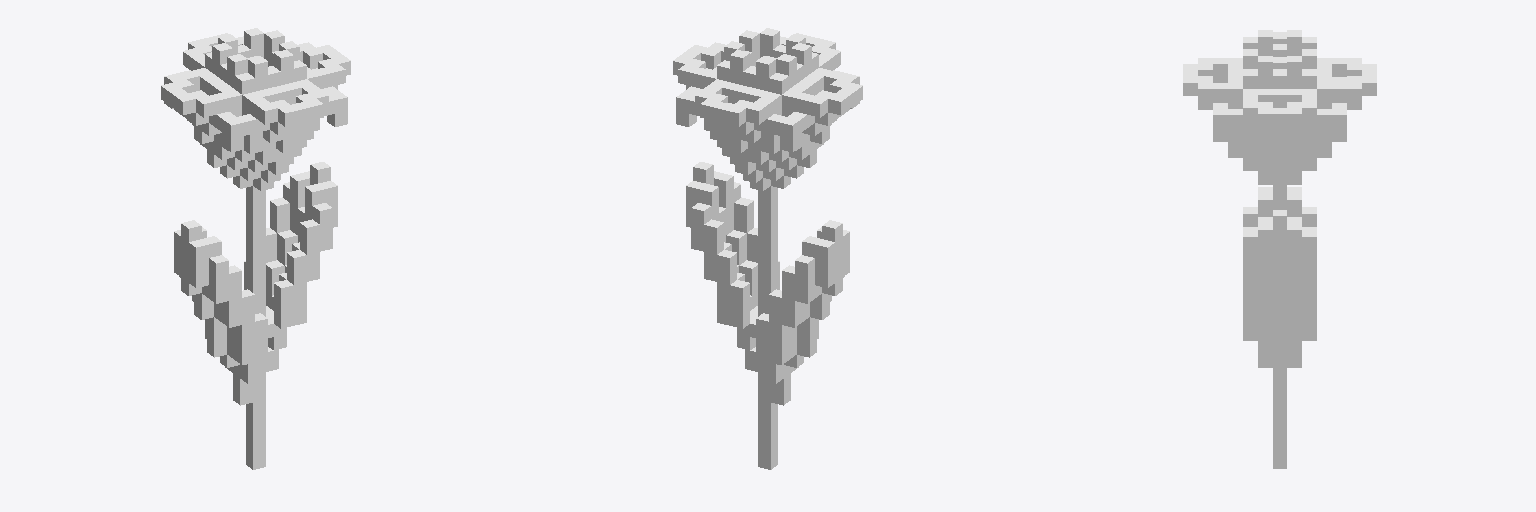
Rendered from iris.obj.
3 views of the same model, side by side, from view 1: azimuth 30°, elevation 25°; view 2: azimuth 150°, elevation 25°; view 3: azimuth 270°, elevation 25° (orthographic).
Visible parts, largest first — view 1: object 1; view 2: object 1; view 3: object 1.
Boxes of the visible parts, box(x1,y1,x2,y2) form: object 1: box(161, 28, 350, 469); object 1: box(673, 28, 862, 469); object 1: box(1183, 30, 1376, 468).
Size of the model in its own units: 1.3 by 3.1 by 1.3.